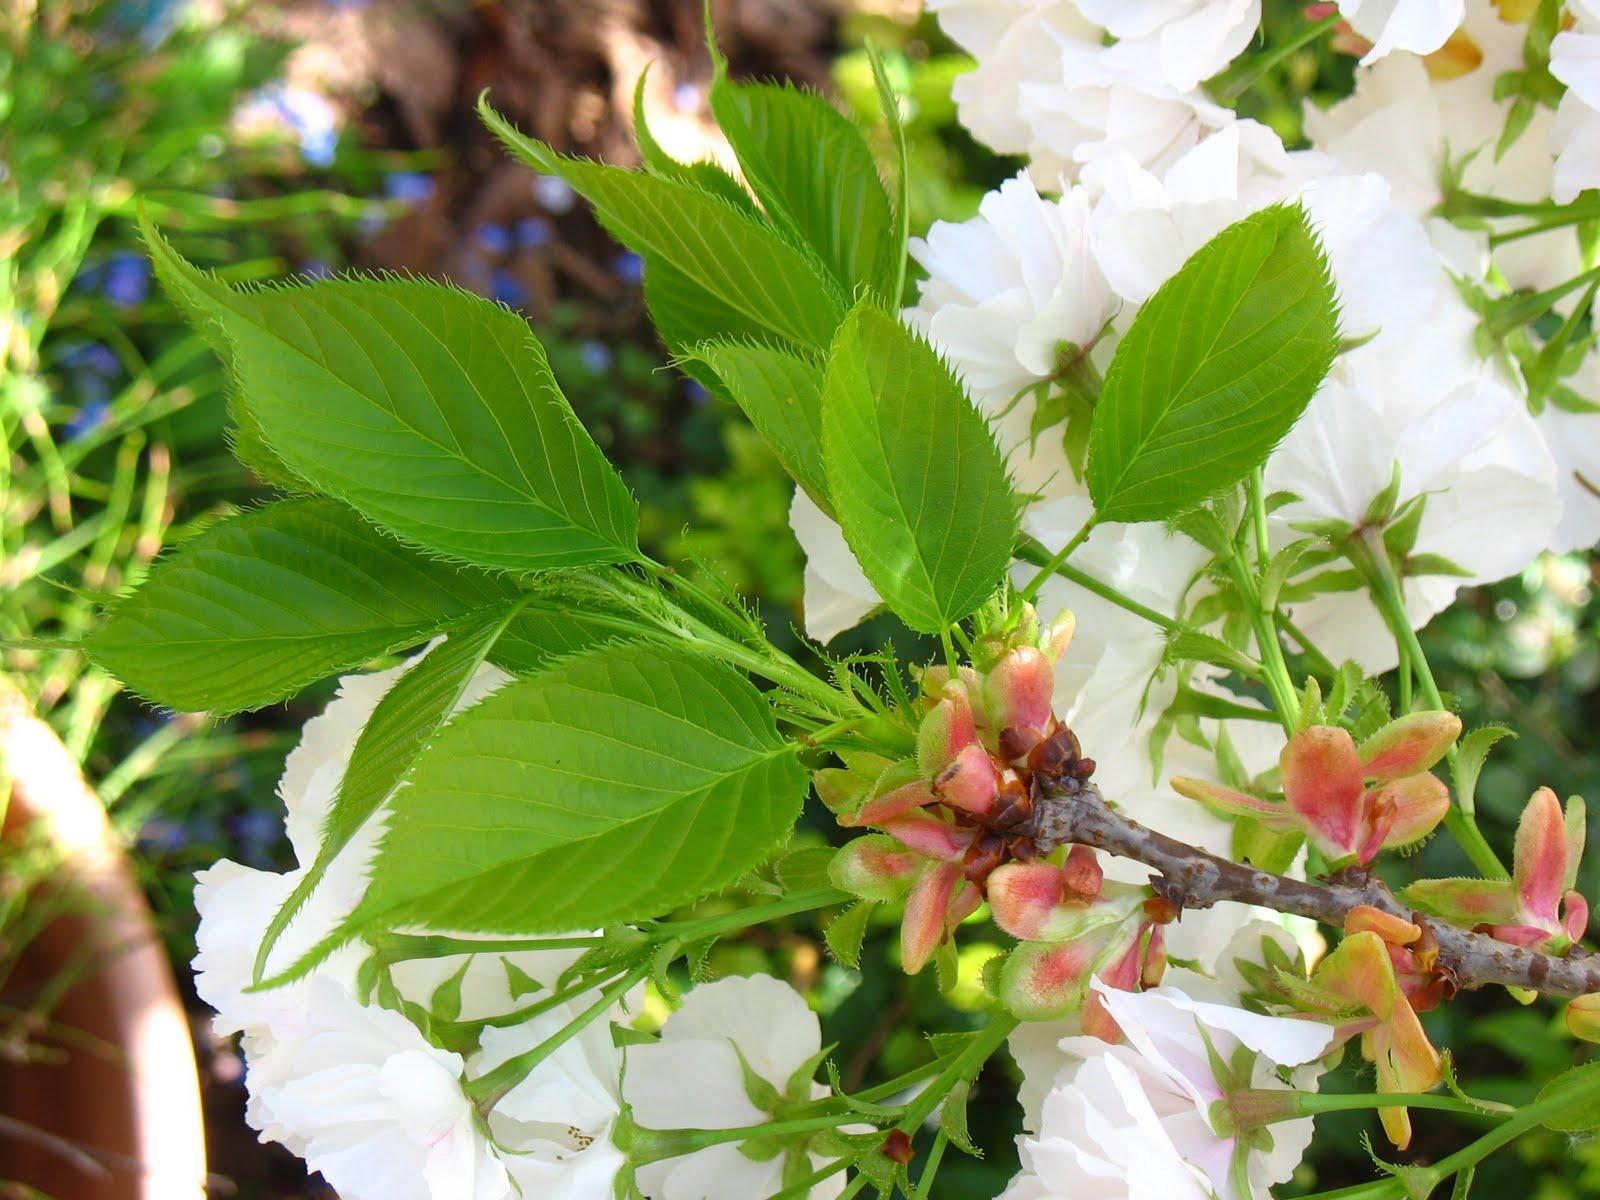Cherry leaf: (117, 194, 655, 589), (321, 637, 843, 983), (68, 487, 571, 737), (1066, 182, 1361, 550), (803, 263, 1018, 658)
